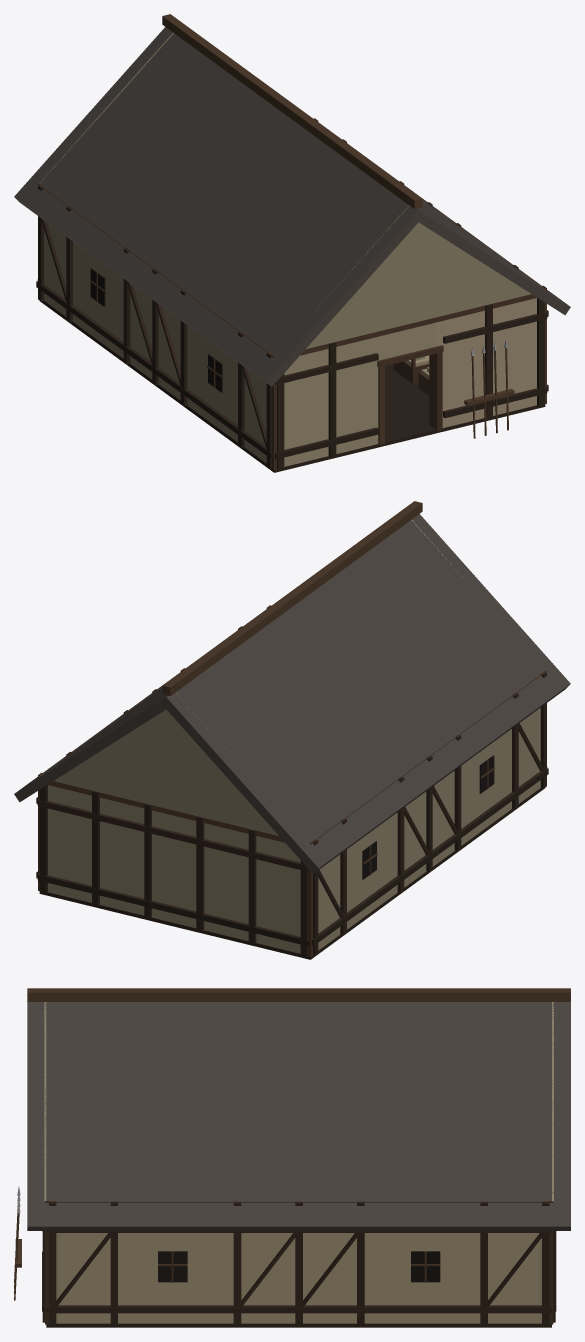
File: walk_hallowed_barracks.glb
The picture shows the model from 3 angles, top to bottom: view 1: azimuth 30°, elevation 25°; view 2: azimuth 150°, elevation 25°; view 3: azimuth 270°, elevation 25°; orthographic projection. The views are drawn at different scales.
Parts seen in each view (by area): view 1: walk_hallowed_barracks_roof, walk_hallowed_barracks; view 2: walk_hallowed_barracks_roof, walk_hallowed_barracks; view 3: walk_hallowed_barracks_roof, walk_hallowed_barracks.
Boxes of the visible parts, bbox=[...] form: walk_hallowed_barracks_roof: bbox=[14, 14, 570, 386]; walk_hallowed_barracks: bbox=[36, 118, 548, 472]; walk_hallowed_barracks_roof: bbox=[14, 501, 570, 873]; walk_hallowed_barracks: bbox=[36, 605, 548, 959]; walk_hallowed_barracks_roof: bbox=[27, 988, 570, 1230]; walk_hallowed_barracks: bbox=[14, 1186, 556, 1327].
Size of what is drawn, in the model's own units: 9 by 6.96 by 13.22.
2 materials, 2 textured.
